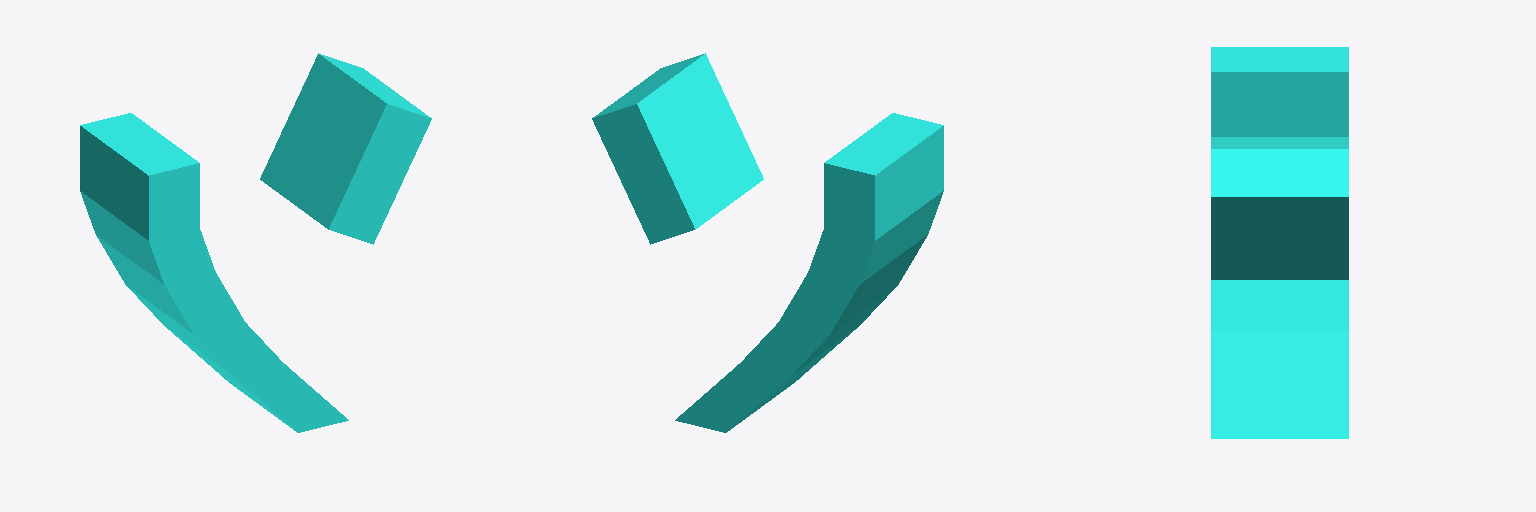
3 renders of one model, left to right at view 1: azimuth 30°, elevation 25°; view 2: azimuth 150°, elevation 25°; view 3: azimuth 270°, elevation 25°, orthographic.
Visible parts, largest first — view 1: Cube; view 2: Cube; view 3: Cube.
Boxes of the visible parts, <box> form: Cube: <box>80,53,431,432</box>; Cube: <box>592,53,943,432</box>; Cube: <box>1211,47,1348,438</box>.
Size of the model in its own units: 0.9512 by 0.9859 by 0.3998.
1 materials, 1 textured.